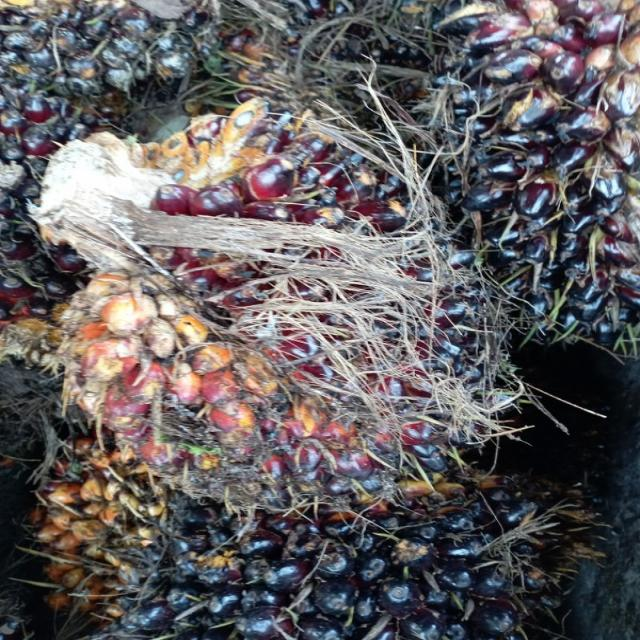fraksi 00: (378, 0, 640, 347), (100, 484, 554, 640)
fraksi 1: (35, 87, 547, 515)
